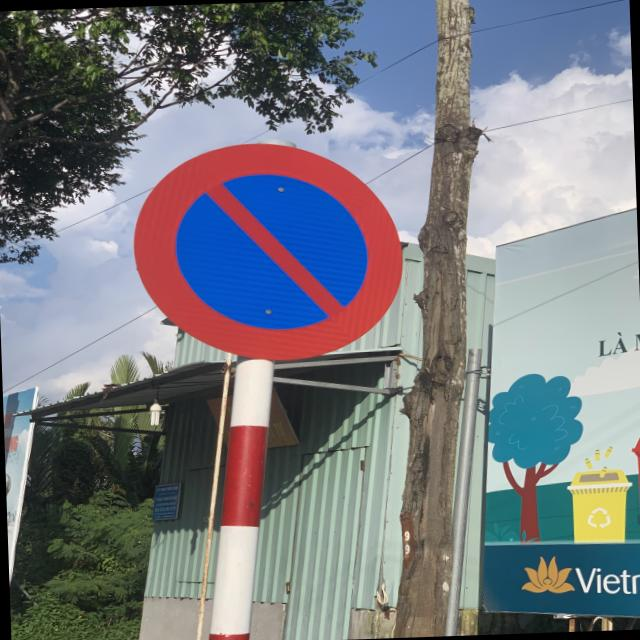Cam_Dau_Xe: (130, 135, 408, 363)
